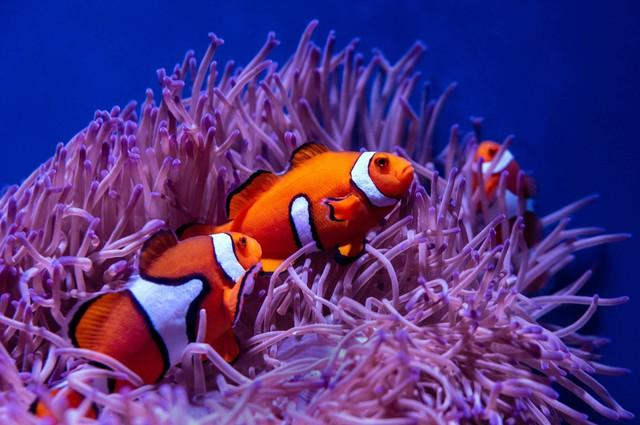Mulut: (392, 150, 432, 198)
Sirip Dada: (217, 258, 273, 334), (316, 181, 362, 231)
Sirip Perut: (324, 234, 370, 276)
Sirip Punggung: (60, 219, 186, 349), (222, 134, 338, 220)
